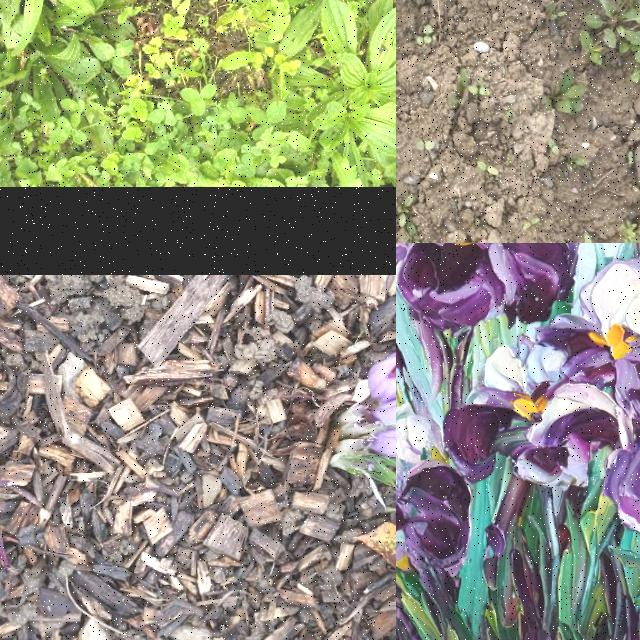flower: (368, 351, 396, 403)
